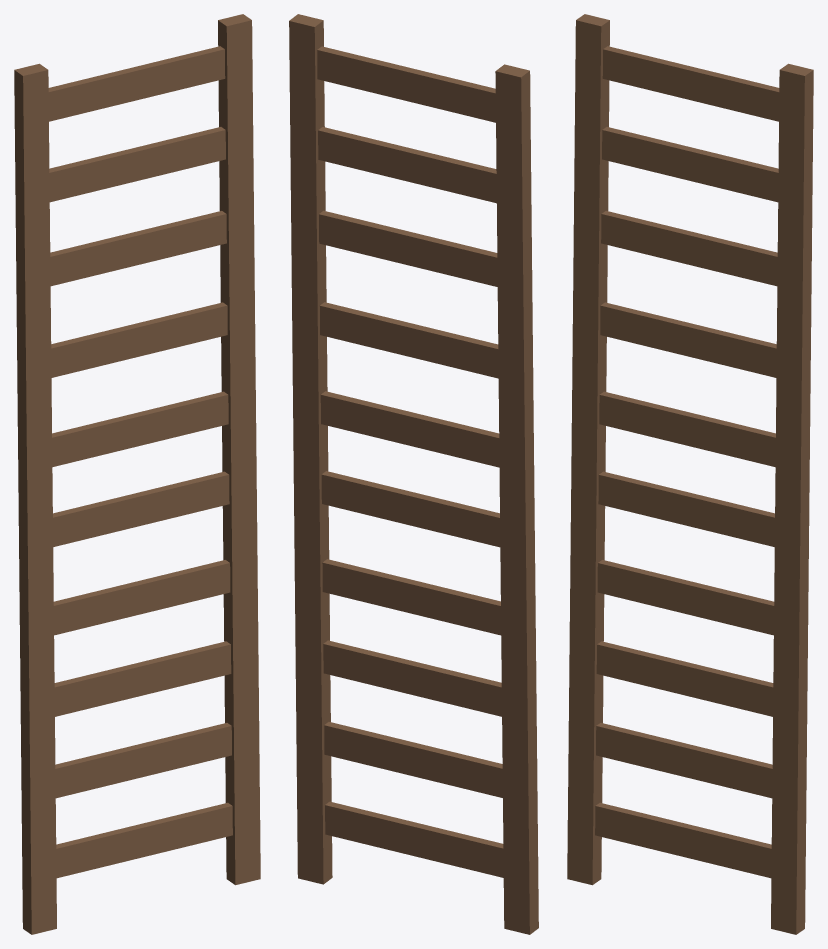
The model's file is ChurchLadderBasement.fbx.
3 renders of one model, left to right at view 1: azimuth 30°, elevation 25°; view 2: azimuth 150°, elevation 25°; view 3: azimuth 330°, elevation 25°, orthographic.
Parts seen in each view (by area): view 1: pCube216; view 2: pCube216; view 3: pCube216.
Part boxes in pixels (bbox=[...]): pCube216: bbox=[14, 14, 260, 934]; pCube216: bbox=[289, 14, 538, 934]; pCube216: bbox=[567, 14, 813, 934].
Bounding box in the file's own units: 0.5824 × 2.07 × 0.0771.
